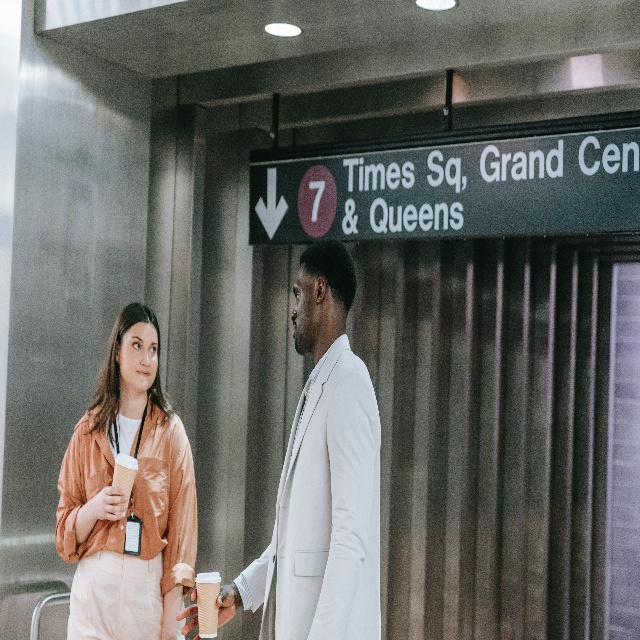Sin_guantes: (175, 581, 237, 640), (95, 484, 129, 525)
